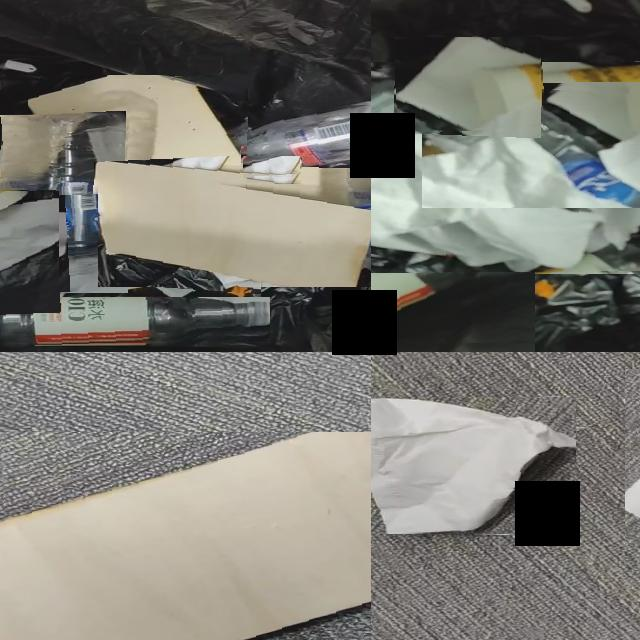bottle: (422, 88, 640, 208), (0, 115, 128, 292), (371, 220, 535, 323), (0, 297, 270, 346), (234, 105, 371, 169)
carton: (0, 432, 371, 640), (98, 166, 371, 287), (29, 75, 248, 193)
dixie_cup: (371, 67, 465, 121)
paper: (371, 99, 640, 273), (371, 399, 576, 534), (397, 37, 541, 132), (0, 202, 59, 274), (156, 273, 261, 297), (244, 156, 300, 175)
